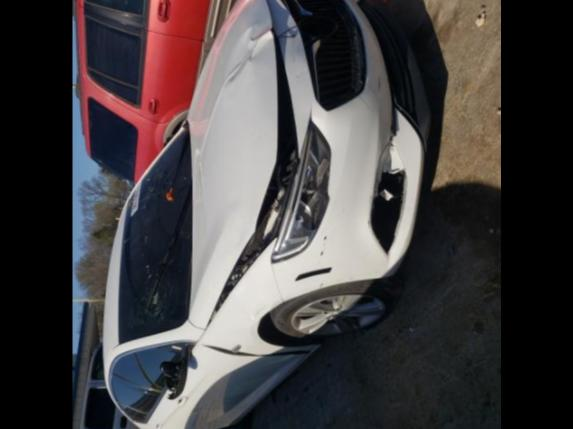Broken part: (267, 0, 424, 304), (184, 0, 302, 329), (272, 122, 331, 263), (199, 341, 322, 359), (159, 344, 192, 405)
Dent: (222, 18, 276, 91), (188, 140, 209, 208)
Missing part: (363, 136, 410, 255)
Paint chip: (375, 79, 382, 94), (317, 248, 330, 256), (321, 233, 332, 242)
